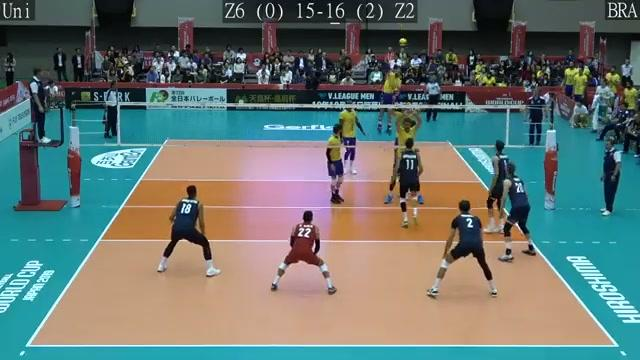ball: (397, 37, 409, 46)
